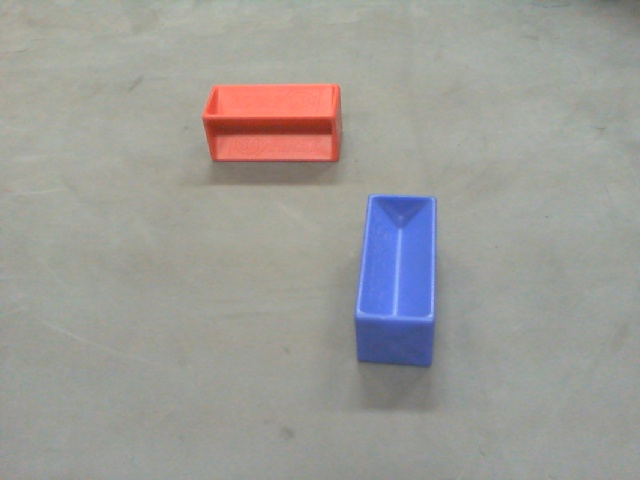BlueSample: (351, 188, 440, 372)
RedSample: (199, 83, 349, 163)
